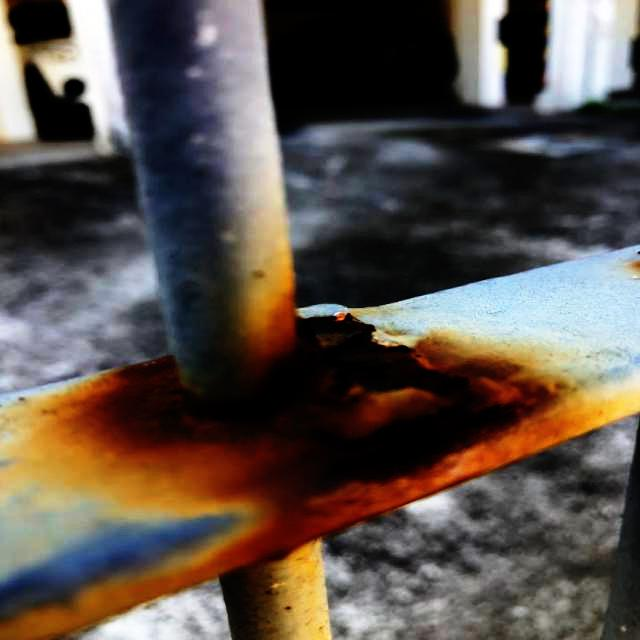Corrosion: (44, 309, 601, 615)
